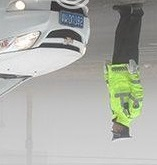person: (103, 2, 147, 141)
